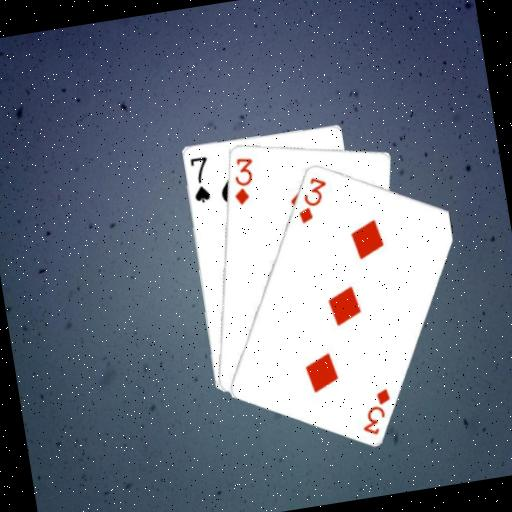3D: (289, 171, 333, 226), (353, 384, 397, 438), (225, 151, 260, 207)
7S: (185, 152, 215, 205)
